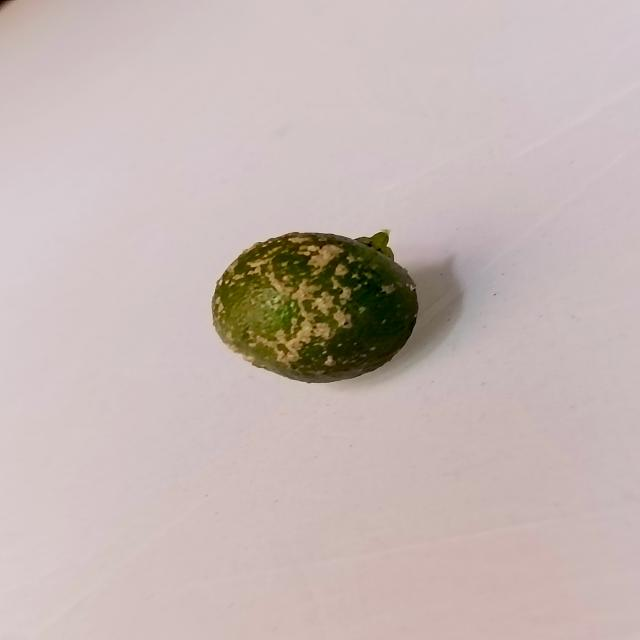scab: (210, 228, 414, 383)
